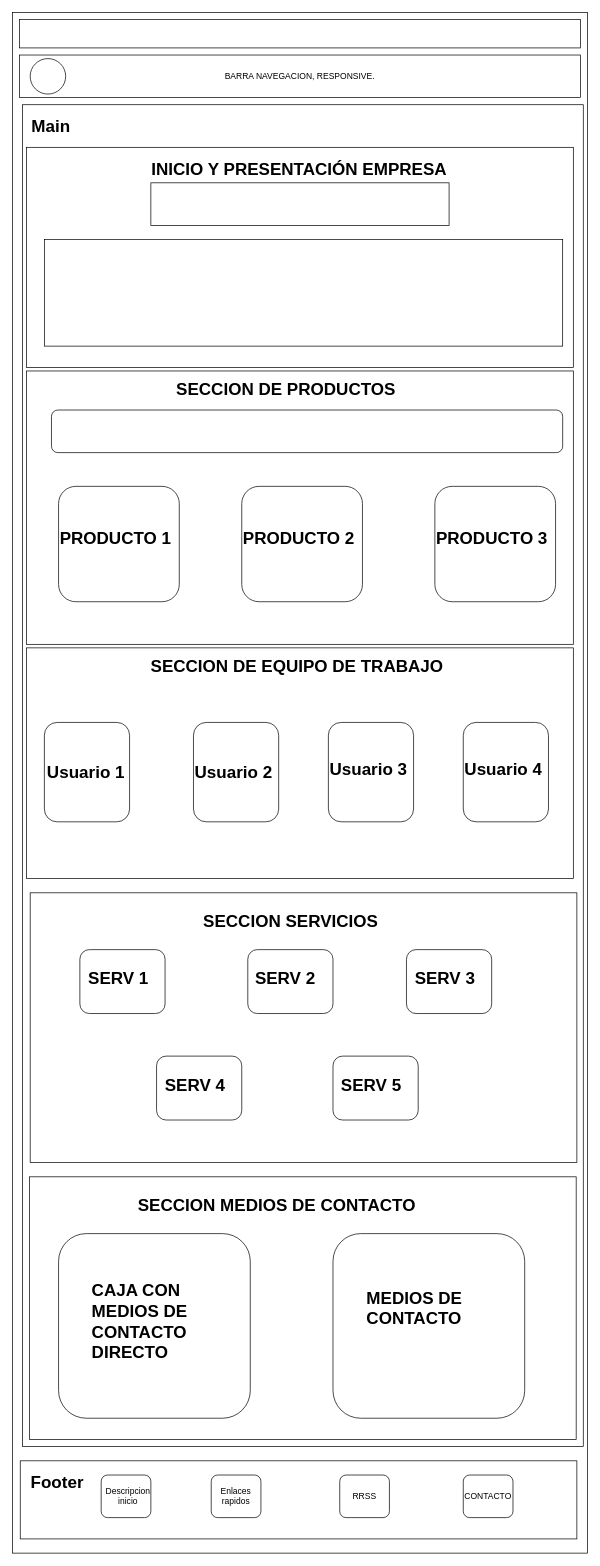
The diagram is 600 pixels wide and 1566 high, and some of its shapes have lost their labels. The shapes that lost their labels are listed below. From the top down, each one's centre as x and y in pixels, then its label:
point 299,33: Header : Imagen logo empresa
point 299,203: Carrusel de imagenes
point 303,292: Texto presentacion empresa
point 307,431: Carrusel imagenes productos
